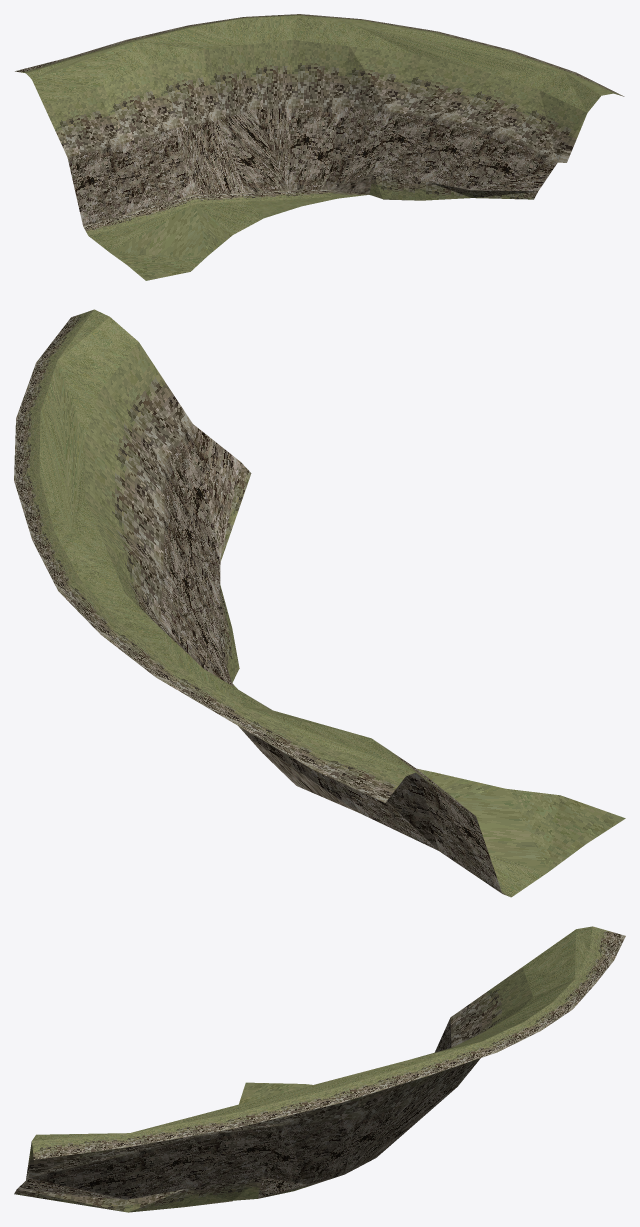
The model's file is lod_land_sfn13.obj.
The picture shows the model from 3 angles, top to bottom: view 1: azimuth 30°, elevation 25°; view 2: azimuth 150°, elevation 25°; view 3: azimuth 270°, elevation 25°; orthographic projection. The views are drawn at different scales.
Visible parts, largest first — view 1: lod_land_SFN13; view 2: lod_land_SFN13; view 3: lod_land_SFN13.
Part boxes in pixels (x1,y1,x2,y2): lod_land_SFN13: [15, 14, 624, 280]; lod_land_SFN13: [14, 309, 625, 897]; lod_land_SFN13: [14, 926, 625, 1212].
Size of the model in its own units: 162 by 58.51 by 154.
4 materials, 4 textured.
